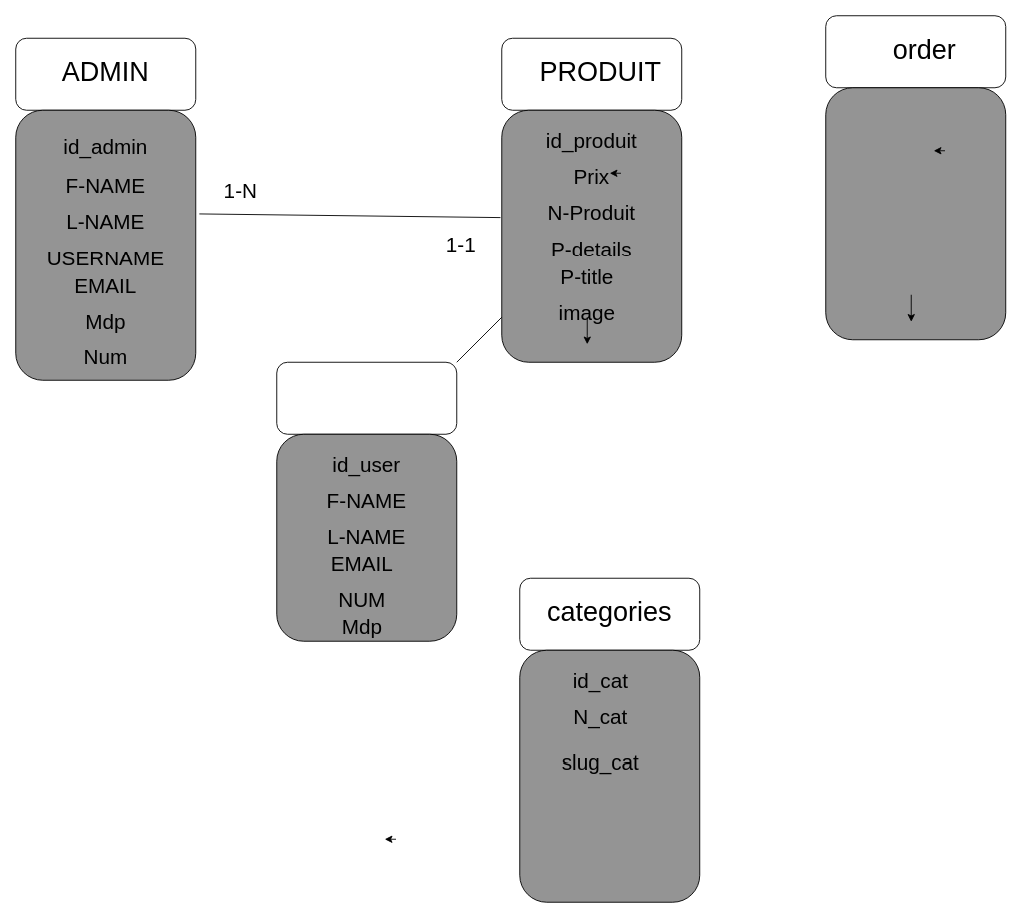
Some shapes in this 1022 by 918 pixel diagram are drawn without their labels. Each missing label, with the centre of its shape:
"id_order" goes at (x=915, y=213).
"USER" goes at (x=366, y=397).
